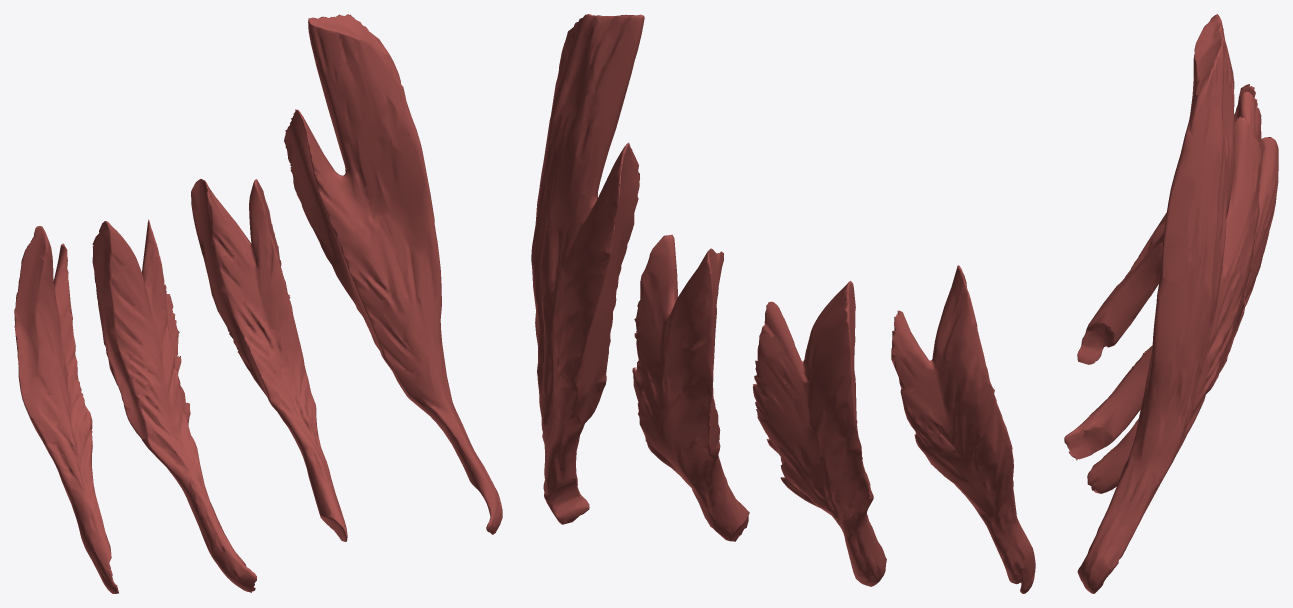
File: FMA42405.glb
3 renders of one model, left to right at view 1: azimuth 30°, elevation 25°; view 2: azimuth 150°, elevation 25°; view 3: azimuth 270°, elevation 25°, orthographic. The views are drawn at different scales.
Visible parts, largest first — view 1: FMA42405; view 2: FMA42405; view 3: FMA42405.
Part boxes in pixels (x1,y1,x2,y2): FMA42405: [14, 14, 502, 593]; FMA42405: [531, 14, 1035, 593]; FMA42405: [1064, 14, 1278, 593].
Size of the model in its own units: 0.0621 by 0.0687 by 0.0259.
